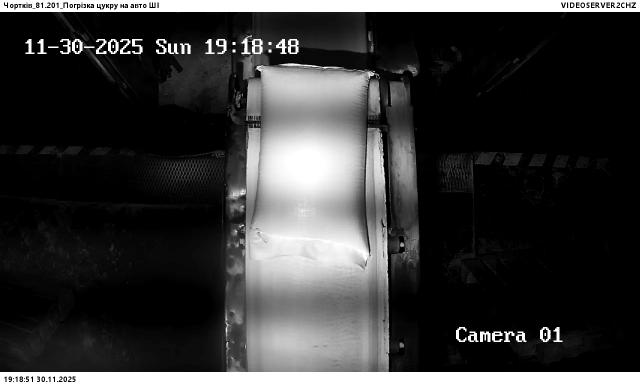bag: (251, 64, 376, 266)
